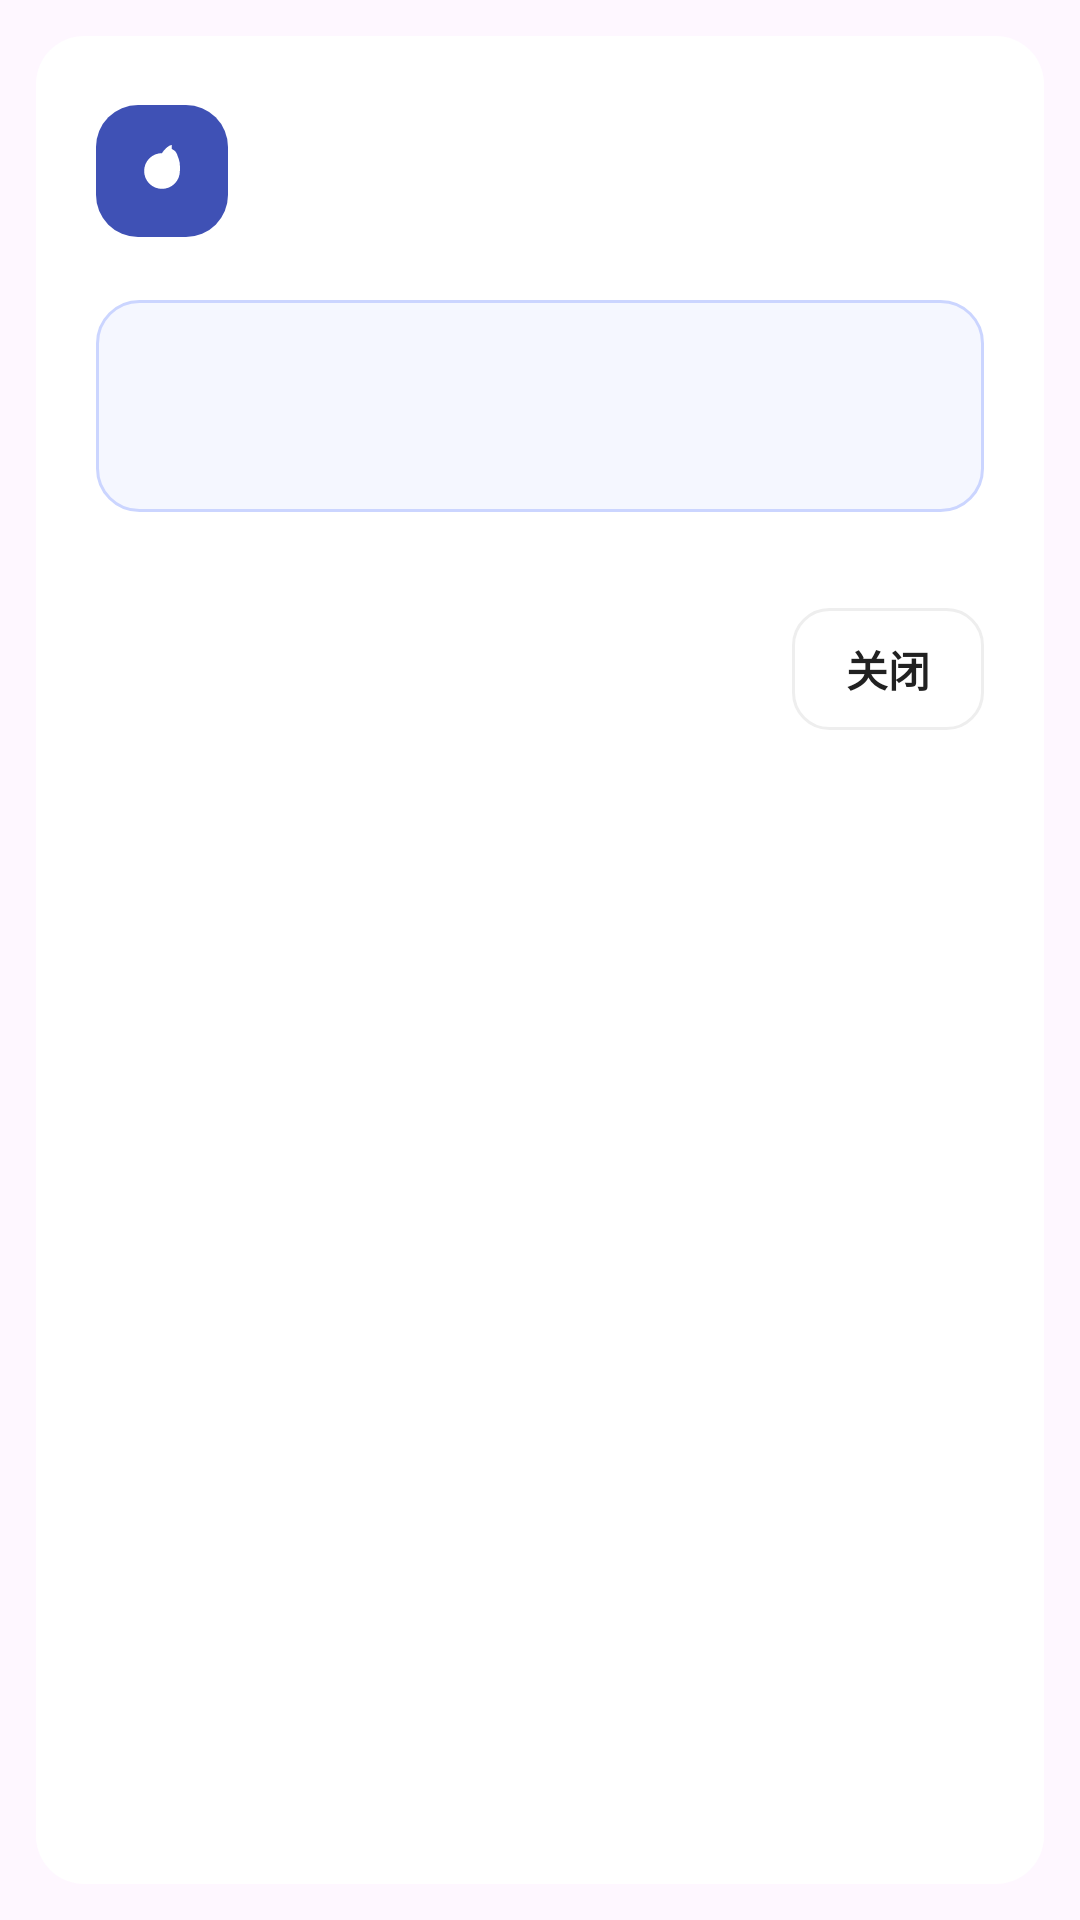

Point at icon controls on the screen. Image size 1080w x 1920h, points as point (x, y).
apple: point (162, 167)
